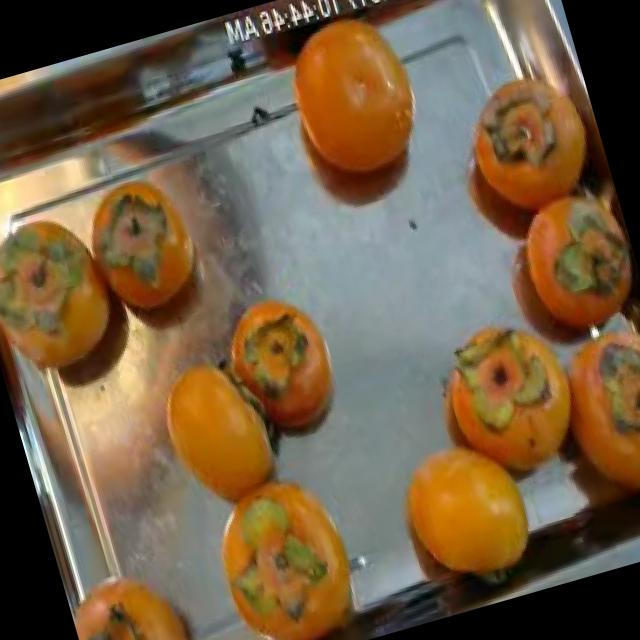Fruit: (258, 0, 459, 235), (359, 402, 567, 624), (171, 444, 390, 640), (135, 335, 309, 542), (405, 294, 588, 482), (200, 270, 364, 470)
